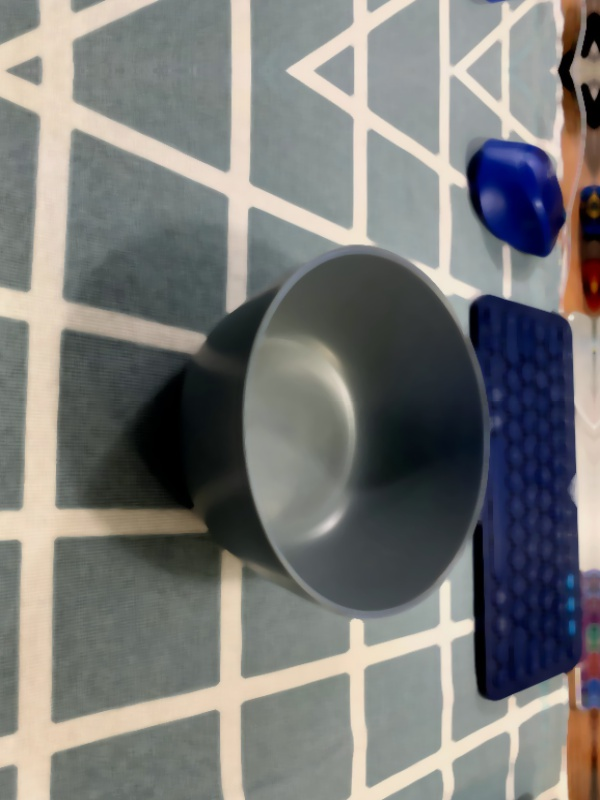bowl_big: (170, 236, 494, 624)
